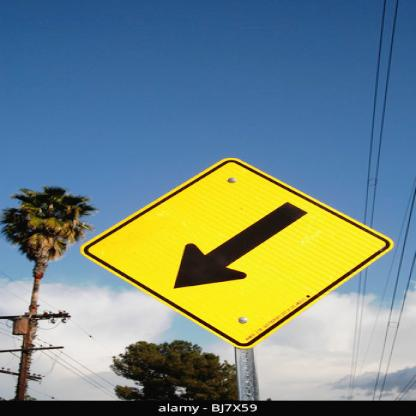Keep left: (72, 158, 388, 343)
